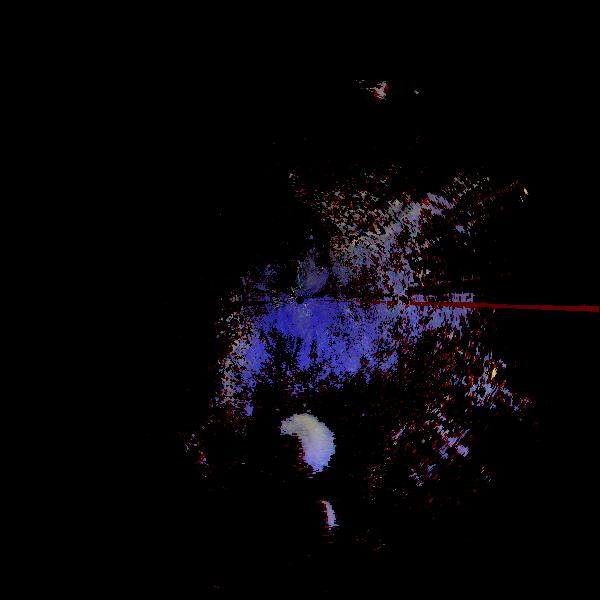roost: (266, 412, 332, 478), (304, 501, 340, 537)
